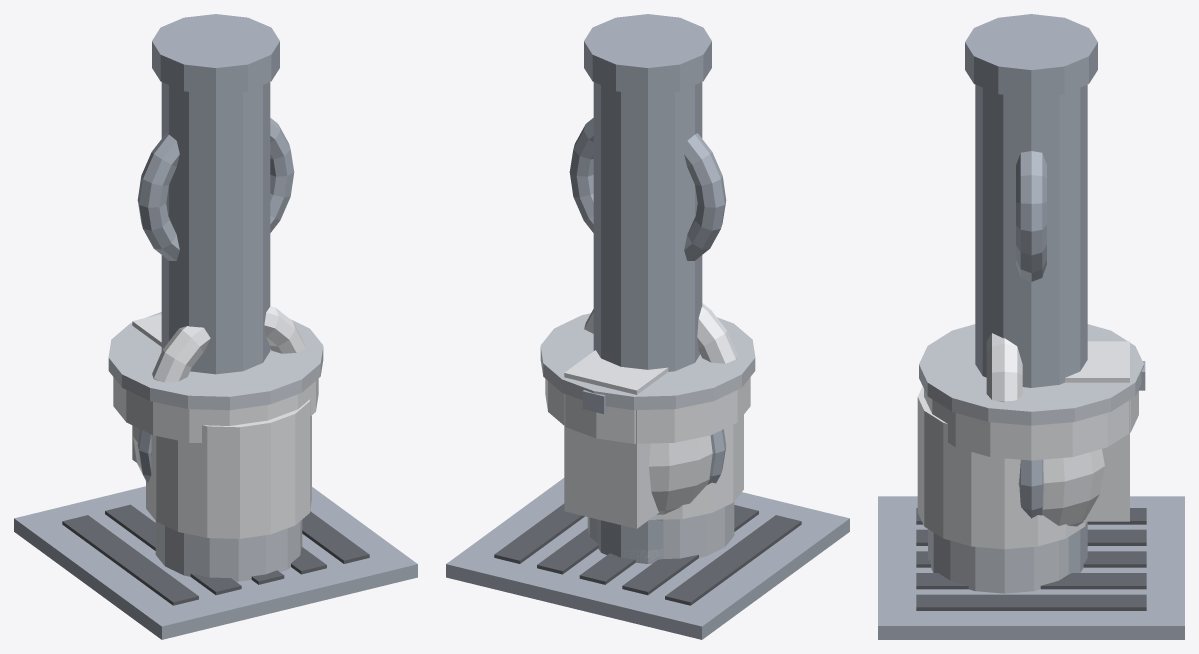
The model's file is kit-hollow.glb.
3 renders of one model, left to right at view 1: azimuth 30°, elevation 25°; view 2: azimuth 150°, elevation 25°; view 3: azimuth 270°, elevation 25°, orthographic. The views are drawn at different scales.
Visible parts, largest first — view 1: hollow_pipe, hollow_toilet, hollow_drain, hollow_basin; view 2: hollow_pipe, hollow_drain, hollow_toilet, hollow_basin, hollow_urn; view 3: hollow_pipe, hollow_drain, hollow_toilet, hollow_basin, hollow_urn.
Part boxes in pixels (bbox=[...]): hollow_pipe: bbox=[137, 14, 294, 482]; hollow_toilet: bbox=[132, 306, 311, 581]; hollow_drain: bbox=[14, 486, 417, 639]; hollow_basin: bbox=[108, 312, 323, 442]; hollow_pipe: bbox=[569, 14, 726, 563]; hollow_drain: bbox=[446, 478, 849, 639]; hollow_toilet: bbox=[564, 303, 743, 558]; hollow_basin: bbox=[540, 313, 755, 443]; hollow_urn: bbox=[623, 435, 712, 563]; hollow_pipe: bbox=[965, 14, 1097, 574]; hollow_drain: bbox=[878, 496, 1184, 639]; hollow_toilet: bbox=[917, 333, 1145, 593]; hollow_basin: bbox=[919, 324, 1143, 460]; hollow_urn: bbox=[1018, 449, 1104, 526].
Bounding box in the file's own units: 1.2 × 2.3 × 1.2.
